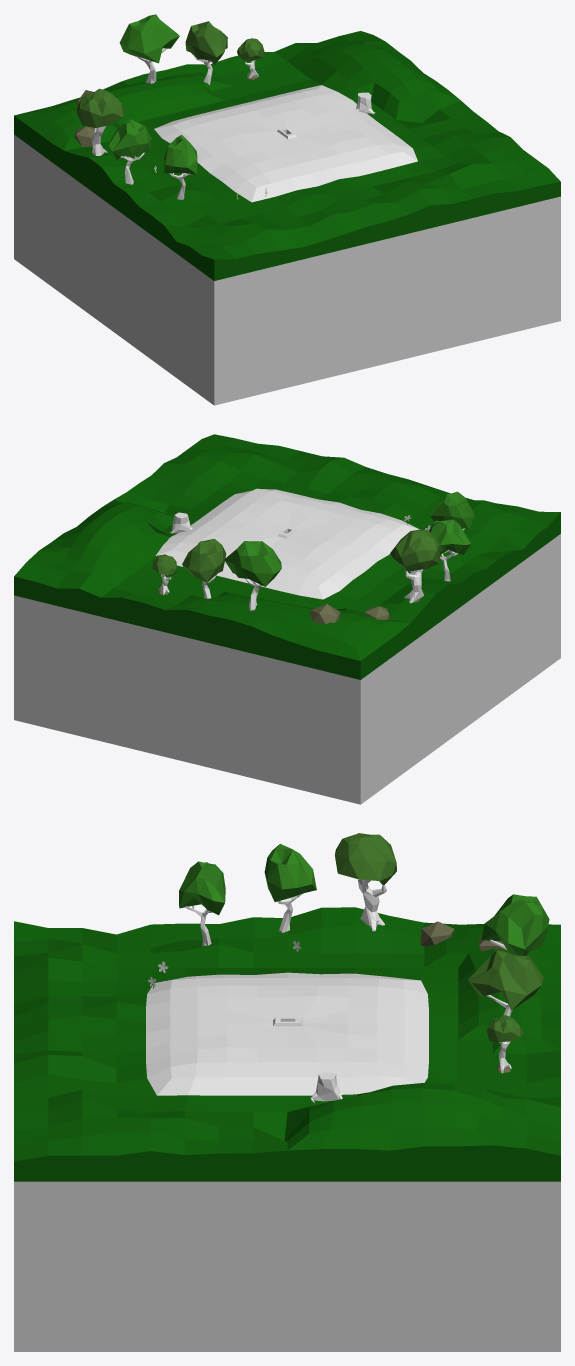
The model's file is landscapeForest.fbx.
The picture shows the model from 3 angles, top to bottom: view 1: azimuth 30°, elevation 25°; view 2: azimuth 150°, elevation 25°; view 3: azimuth 270°, elevation 25°; orthographic projection. The views are drawn at different scales.
Parts seen in each view (by area): view 1: Ground, Tree 5, Tree 3, Tree 6, Tree 4, Tree 2, Tree; view 2: Ground, Tree 5, Tree 3, Tree 6, Tree 4, Tree 2, Tree, Rock; view 3: Ground, Tree 3, Tree 5, Tree 6, Tree 4, Tree 2, Tree, Stump.
Part boxes in pixels (x1,y1,x2,y2): Ground: (14, 31, 560, 405); Tree 5: (119, 14, 179, 83); Tree 3: (76, 88, 125, 155); Tree 6: (185, 21, 227, 84); Tree 4: (108, 119, 151, 184); Tree 2: (164, 135, 197, 199); Tree: (237, 38, 264, 79); Ground: (14, 434, 560, 804); Tree 5: (224, 541, 281, 610); Tree 3: (390, 529, 440, 603); Tree 6: (182, 538, 226, 598); Tree 4: (429, 519, 470, 581); Tree 2: (430, 491, 474, 555); Tree: (152, 554, 176, 594); Rock: (310, 604, 340, 624); Ground: (14, 907, 560, 1351); Tree 3: (335, 833, 396, 931); Tree 5: (481, 894, 549, 955); Tree 6: (468, 950, 543, 1016); Tree 4: (264, 844, 316, 932); Tree 2: (179, 861, 225, 946); Tree: (486, 1015, 524, 1073); Stump: (310, 1072, 342, 1102).
Bounding box in the file's own units: 407 × 245 × 400.
